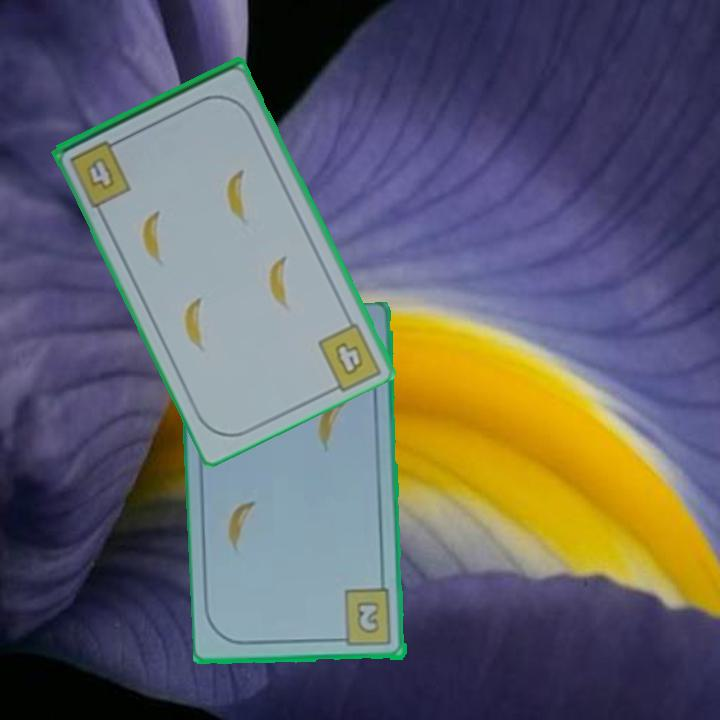2b: (333, 586, 395, 649)
4b: (66, 134, 135, 210), (331, 338, 367, 379)
